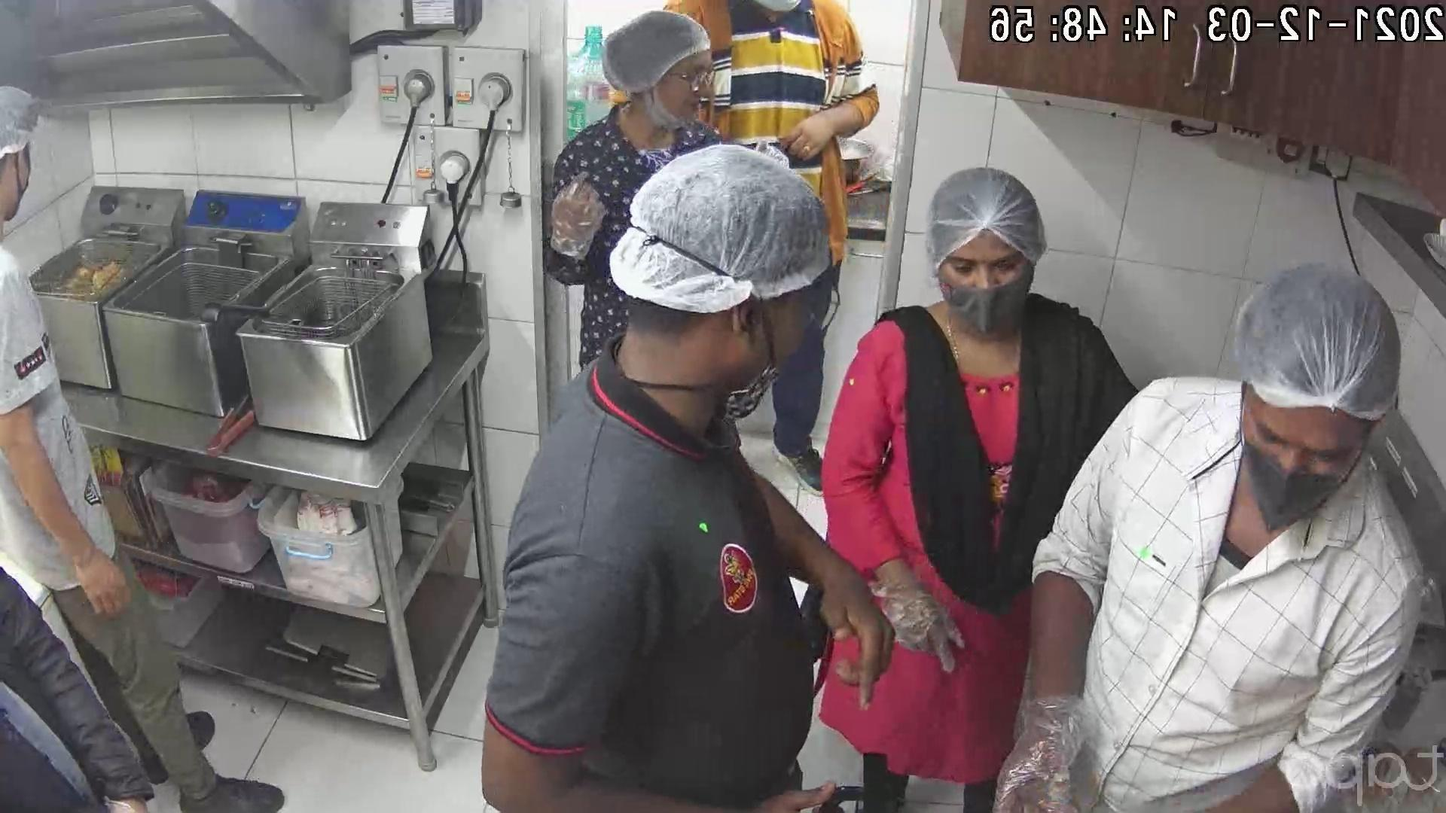apron: (1000, 668, 1104, 813), (869, 535, 970, 665), (548, 176, 619, 276)
gloves: (627, 142, 847, 321), (1232, 257, 1412, 418), (924, 163, 1057, 279), (598, 11, 721, 101), (1, 64, 56, 197)
mask: (1246, 426, 1353, 515)
no_apron: (809, 560, 895, 717), (64, 540, 152, 630), (779, 116, 858, 161)
no_hairnet: (942, 236, 1025, 291), (658, 50, 710, 119)
